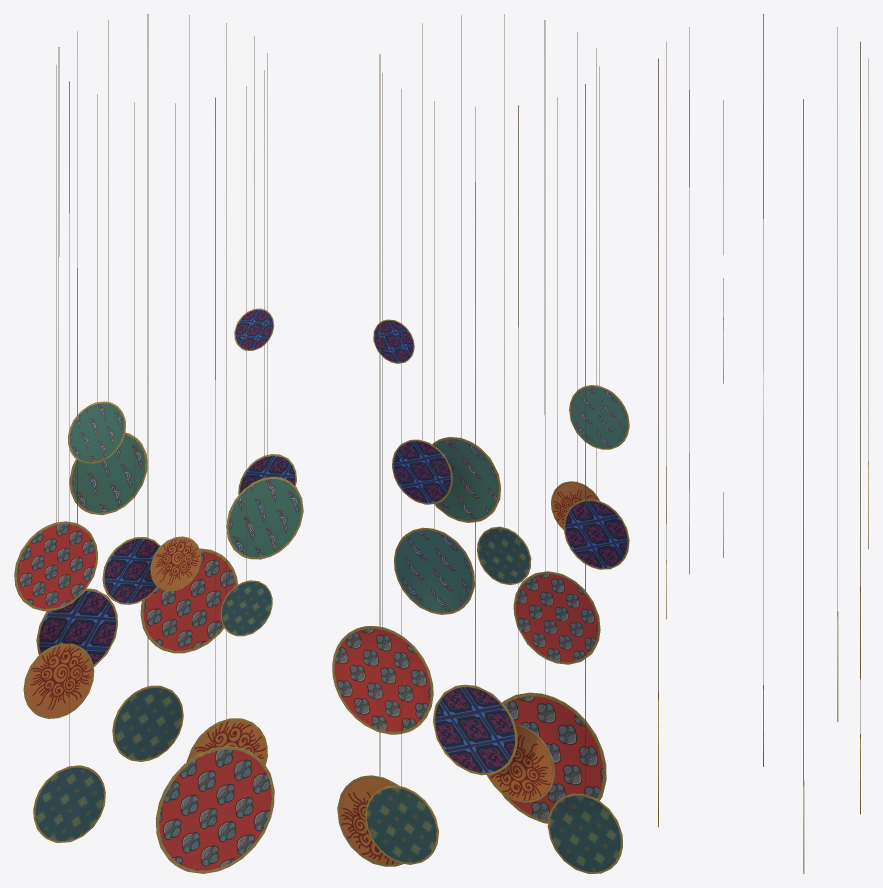
File: HangingFabric_LOD2.glb
The picture shows the model from 3 angles, left to right: view 1: azimuth 30°, elevation 25°; view 2: azimuth 150°, elevation 25°; view 3: azimuth 270°, elevation 25°; orthographic projection. The views are drawn at different scales.
Visible parts, largest first — view 1: Hanging Fabric_PROCESSED.001_LOD2; view 2: Hanging Fabric_PROCESSED.001_LOD2; view 3: Hanging Fabric_PROCESSED.001_LOD2.
Boxes of the visible parts, box(x1,y1,x2,y2) form: Hanging Fabric_PROCESSED.001_LOD2: box(14, 14, 303, 873); Hanging Fabric_PROCESSED.001_LOD2: box(332, 14, 629, 873); Hanging Fabric_PROCESSED.001_LOD2: box(658, 14, 868, 873).
Size of the model in its own units: 5.52 by 16.18 by 4.02.
Materials: 1 (1 with a texture image).
